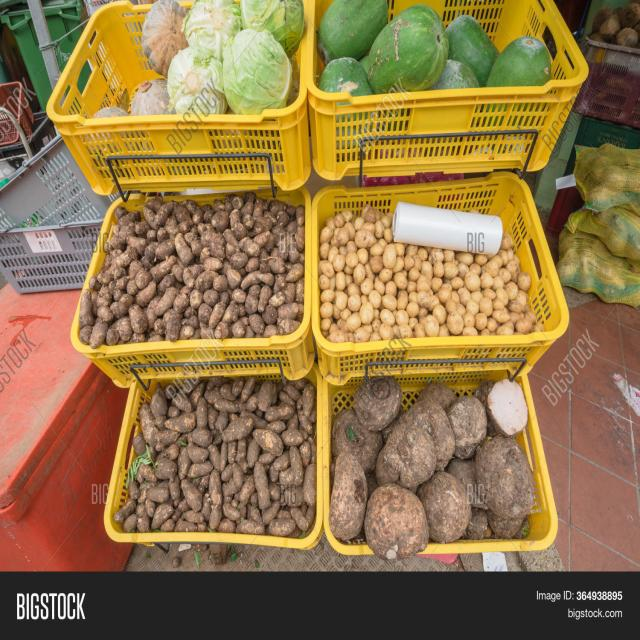basket: (302, 167, 574, 386), (60, 184, 323, 391), (306, 0, 589, 179), (104, 366, 323, 550), (0, 122, 128, 312), (314, 375, 373, 558), (362, 132, 536, 177), (82, 197, 122, 291)
